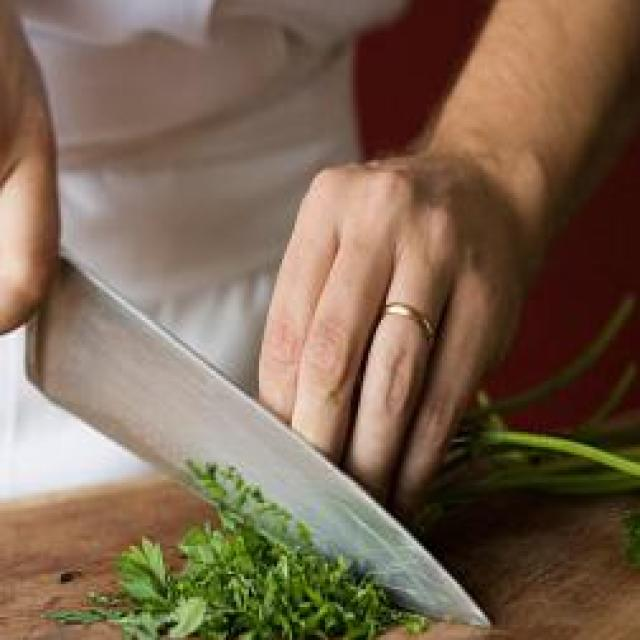knife: (0, 160, 498, 632)
